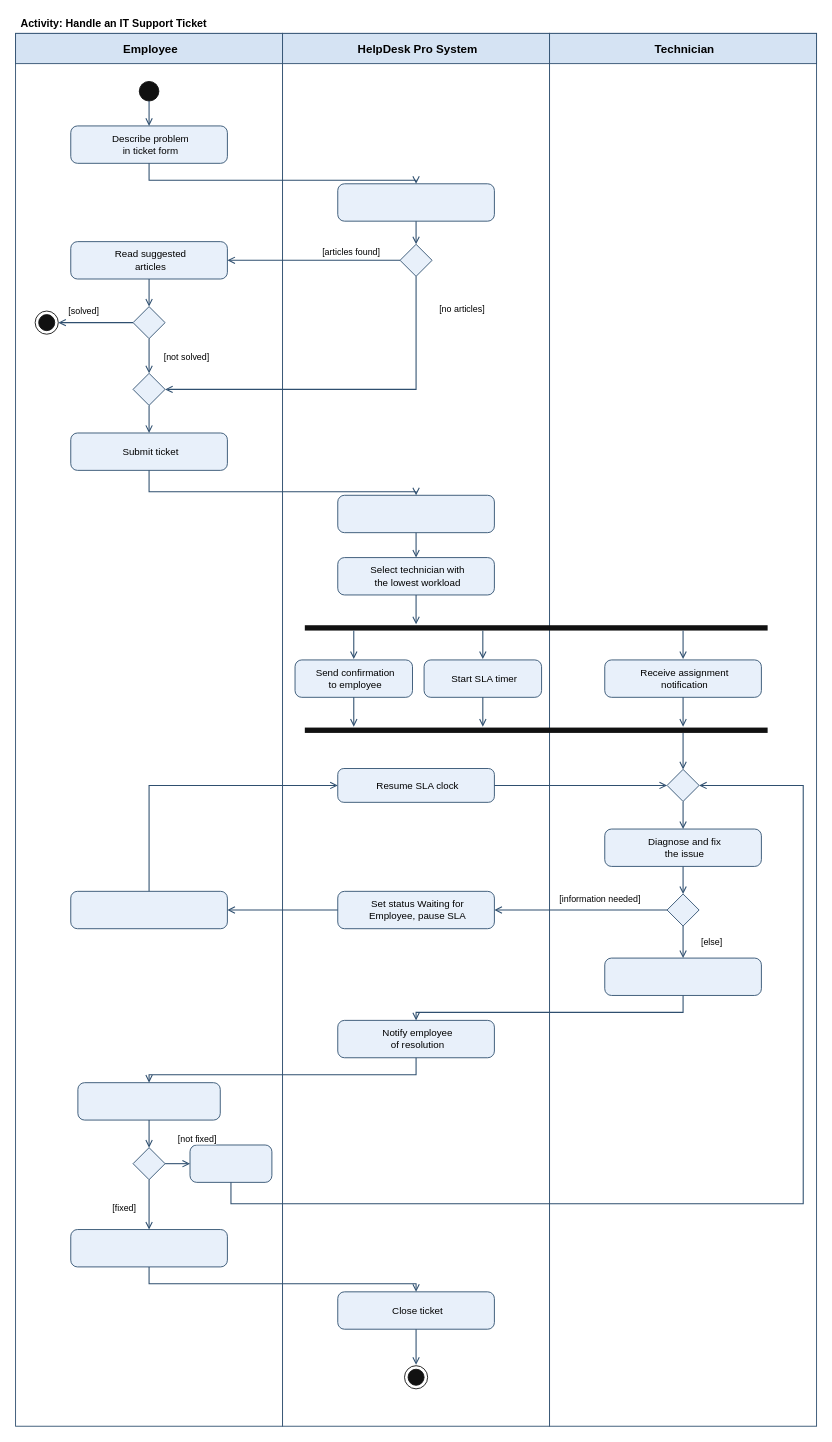
Image size: 832x1442. Some labels were removed from this diagram. The shapes that lost their labels are listed below. From the top down, each one's centre as x and y in pixels, then its label:
At (x=415, y=202): "Search knowledge base for matching articles".
At (x=415, y=513): "Save ticket (status = New)".
At (x=148, y=909): "Provide requested information".
At (x=682, y=976): "Mark ticket as Resolved".
At (x=148, y=1101): "Verify the fix".
At (x=230, y=1163): "Reopen ticket".
At (x=148, y=1248): "Confirm resolution (optionally rate service)".
